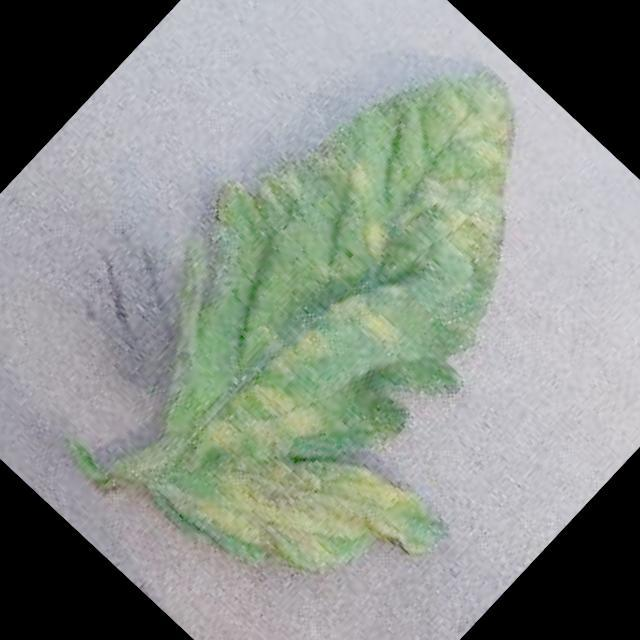Tomato mold leaf: (37, 0, 640, 640)
